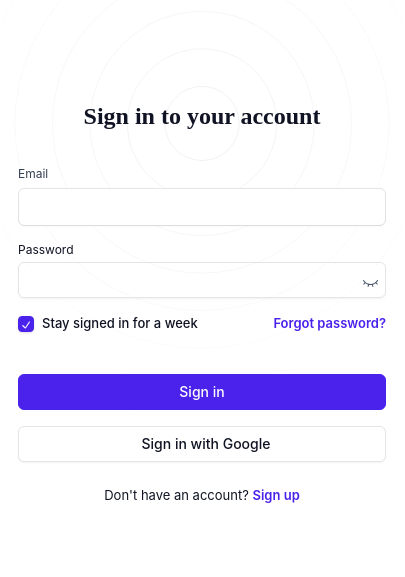
Test: Login page › should show an error for invalid email format
Step 1. Type "invalid-email" into the field with test id "email" → [202, 207], box left=19, top=189, right=385, bottom=225
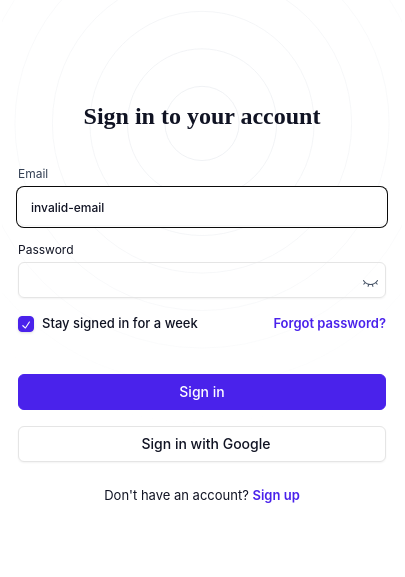
Step 2. Click the button with test id "signin-btn" → [202, 392], box left=18, top=374, right=386, bottom=410
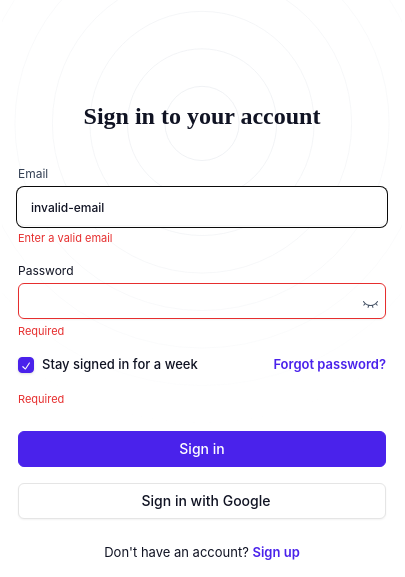
Result: the text "Enter a valid email" is shown at left=18, top=231, right=112, bottom=245
